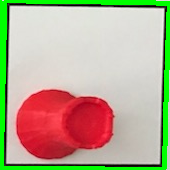Red Castle: (12, 82, 116, 161)
